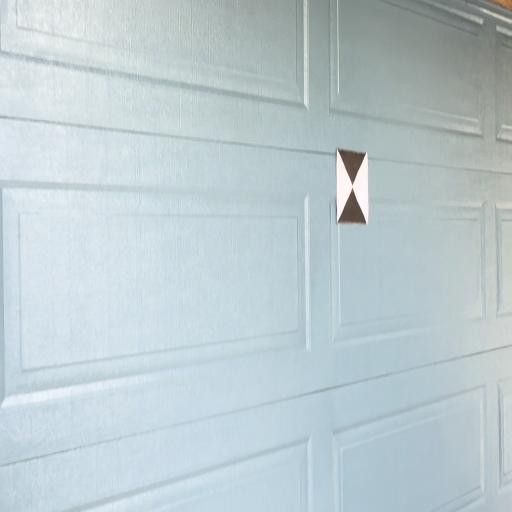target: (336, 148, 368, 223)
